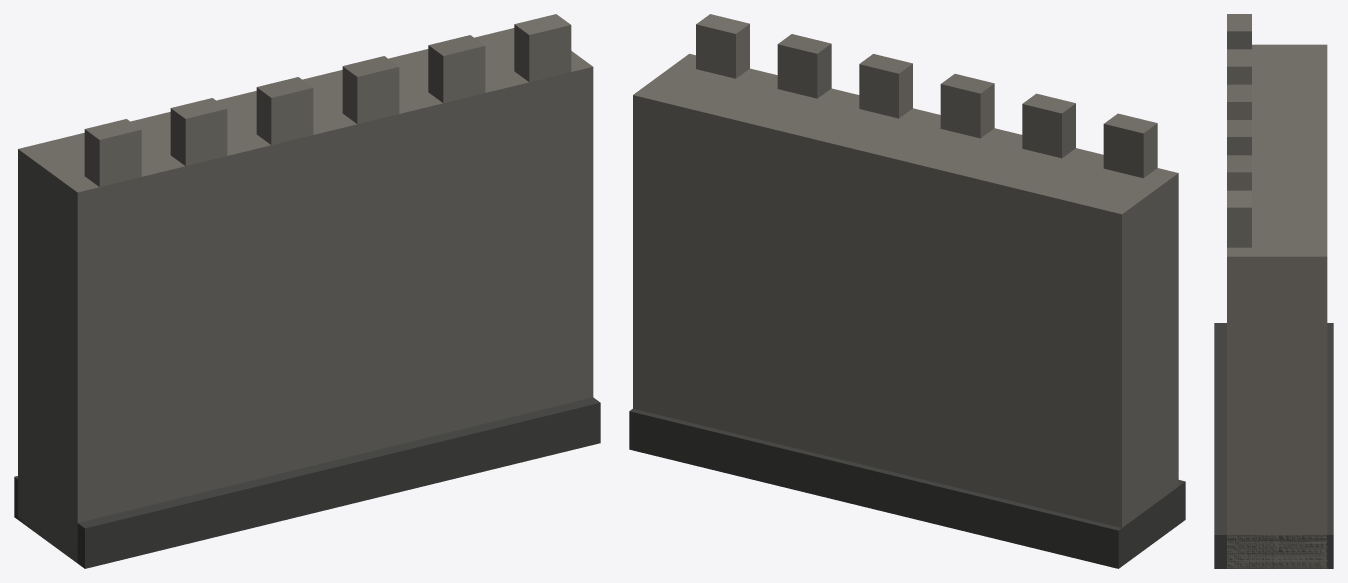
Rendered from walk_freehold_wall.glb.
3 views of the same model, side by side, from view 1: azimuth 30°, elevation 25°; view 2: azimuth 150°, elevation 25°; view 3: azimuth 270°, elevation 25° (orthographic). The views are drawn at different scales.
Visible parts, largest first — view 1: walk_freehold_wall; view 2: walk_freehold_wall; view 3: walk_freehold_wall.
Part boxes in pixels (x1,y1,x2,y2): walk_freehold_wall: [14, 14, 600, 568]; walk_freehold_wall: [629, 14, 1185, 568]; walk_freehold_wall: [1214, 14, 1333, 568].
Size of what is drawn, in the model's own units: 8 by 6.2 by 1.9.
Materials: 1 (1 with a texture image).
